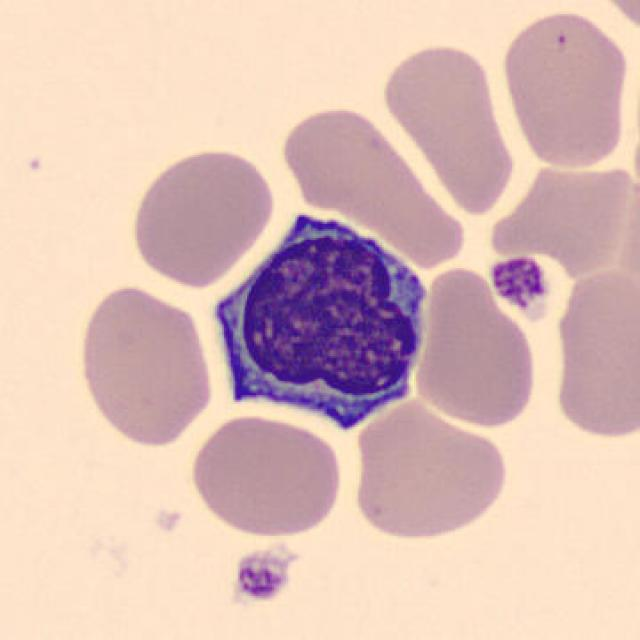Lymphocyte: (201, 201, 435, 439)
Platelets: (485, 254, 551, 317), (227, 546, 297, 604)
RBC: (275, 104, 462, 270), (377, 37, 517, 217), (73, 282, 219, 450), (347, 398, 512, 545), (498, 9, 636, 177), (409, 263, 542, 432), (126, 143, 278, 289), (185, 411, 347, 541), (489, 162, 640, 275), (548, 259, 638, 444), (585, 0, 640, 41)
